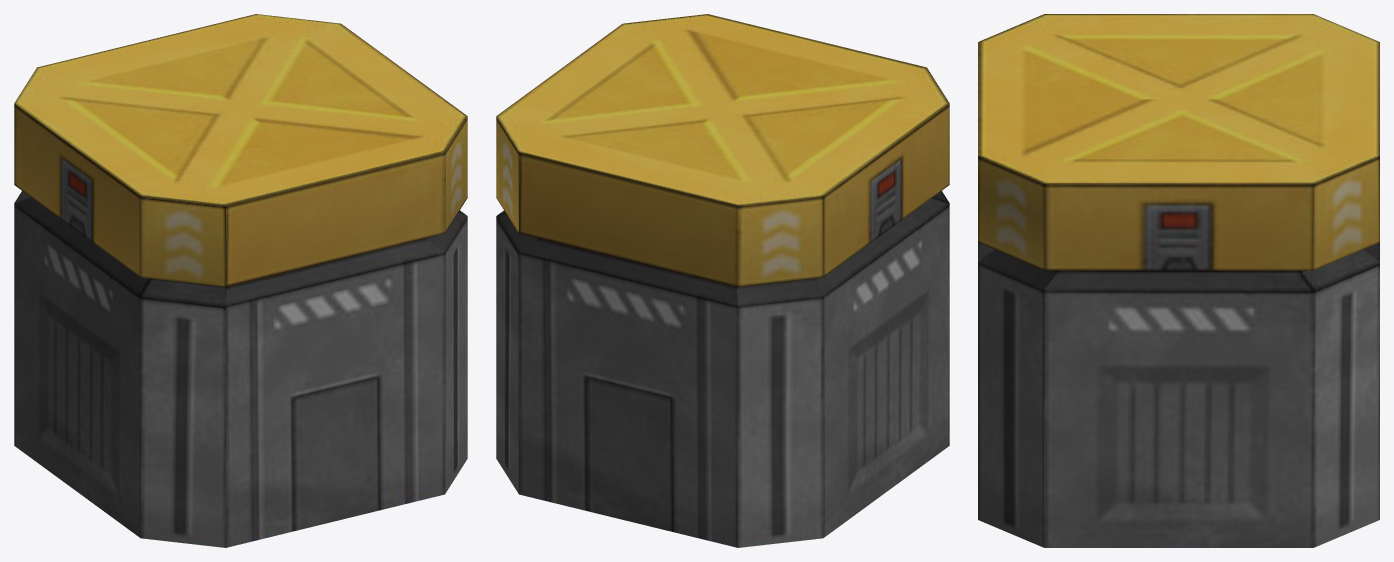
The model's file is lab_crate_single.gltf.
The picture shows the model from 3 angles, left to right: view 1: azimuth 30°, elevation 25°; view 2: azimuth 150°, elevation 25°; view 3: azimuth 270°, elevation 25°; orthographic projection. The views are drawn at different scales.
Visible parts, largest first — view 1: pCube12; view 2: pCube12; view 3: pCube12.
Part boxes in pixels (x1,y1,x2,y2): pCube12: (14,14,467,547); pCube12: (496,14,949,547); pCube12: (978,14,1379,547).
Size of the model in its own units: 3.42 by 3.42 by 3.42.
1 material, 1 textured.
